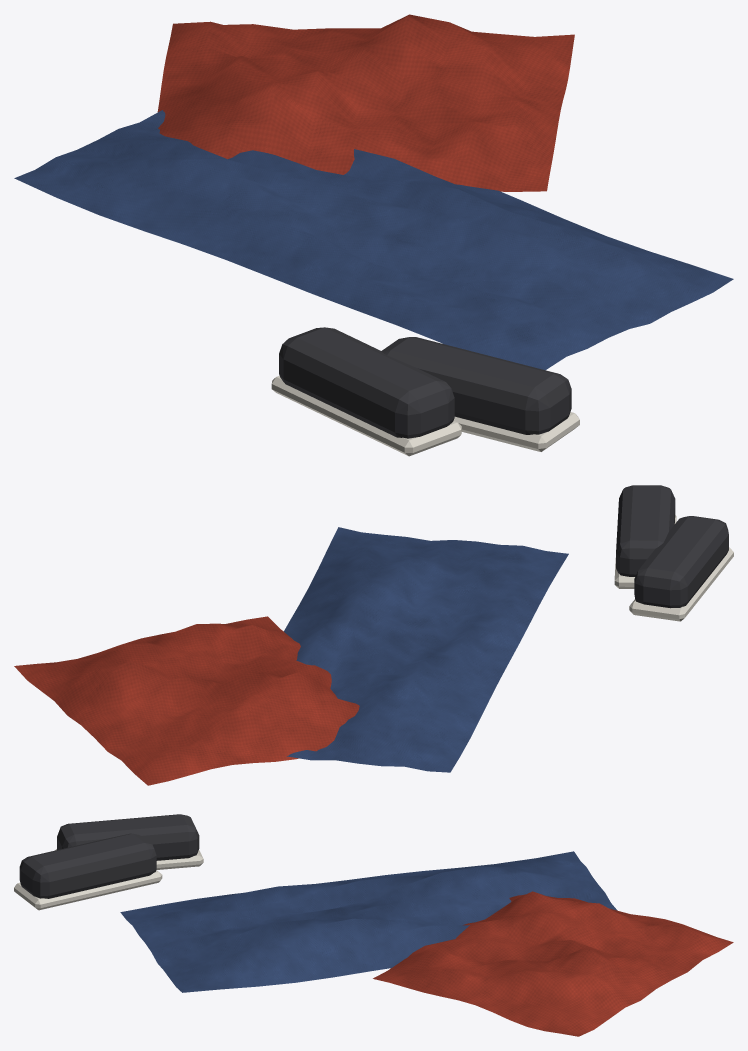
Rendered from floor_clothes.glb.
The picture shows the model from 3 angles, top to bottom: view 1: azimuth 30°, elevation 25°; view 2: azimuth 150°, elevation 25°; view 3: azimuth 270°, elevation 25°; orthographic projection. The views are drawn at different scales.
Visible parts, largest first — view 1: floor_clothes; view 2: floor_clothes; view 3: floor_clothes.
Part boxes in pixels (bbox=[...]): floor_clothes: bbox=[14, 14, 733, 456]; floor_clothes: bbox=[14, 485, 733, 785]; floor_clothes: bbox=[14, 814, 733, 1036].
Bounding box in the file's own units: 0.9263 × 0.0889 × 1.44.
Materials: 4 (2 with a texture image).
